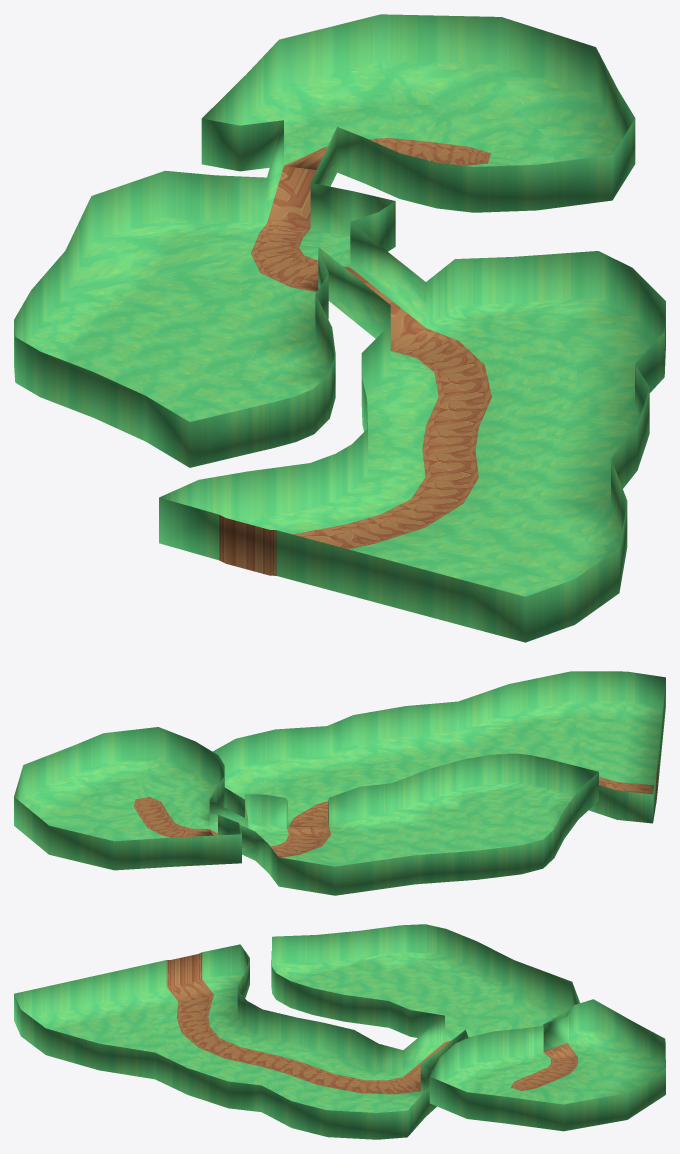
Rendered from terrain_col.glb.
The picture shows the model from 3 angles, top to bottom: view 1: azimuth 30°, elevation 25°; view 2: azimuth 150°, elevation 25°; view 3: azimuth 270°, elevation 25°; orthographic projection. The views are drawn at different scales.
Parts seen in each view (by area): view 1: terrain.002; view 2: terrain.002; view 3: terrain.002.
Boxes of the visible parts, bbox=[...] form: terrain.002: bbox=[14, 14, 665, 642]; terrain.002: bbox=[14, 671, 665, 895]; terrain.002: bbox=[14, 924, 665, 1139].
Bounding box in the file's own units: 32.59 × 5.31 × 44.09.
2 materials, 2 textured.
